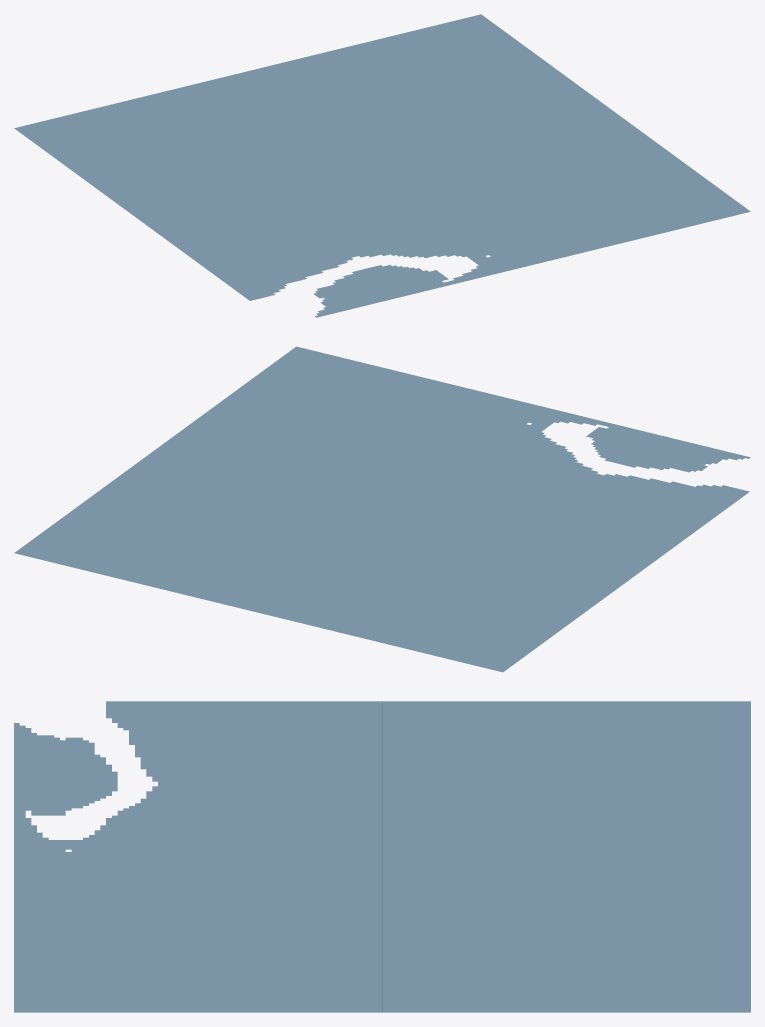
File: chunk_7_0.glb
3 renders of one model, top to bottom at view 1: azimuth 30°, elevation 25°; view 2: azimuth 150°, elevation 25°; view 3: azimuth 270°, elevation 25°, orthographic. The views are drawn at different scales.
Visible parts, largest first — view 1: Water_7_0; view 2: Water_7_0; view 3: Water_7_0.
Part boxes in pixels (x1,y1,x2,y2): Water_7_0: (14,14,750,317); Water_7_0: (14,346,750,672); Water_7_0: (14,701,750,1012).
Size of the model in its own units: 2048 by 0.1698 by 2048.
